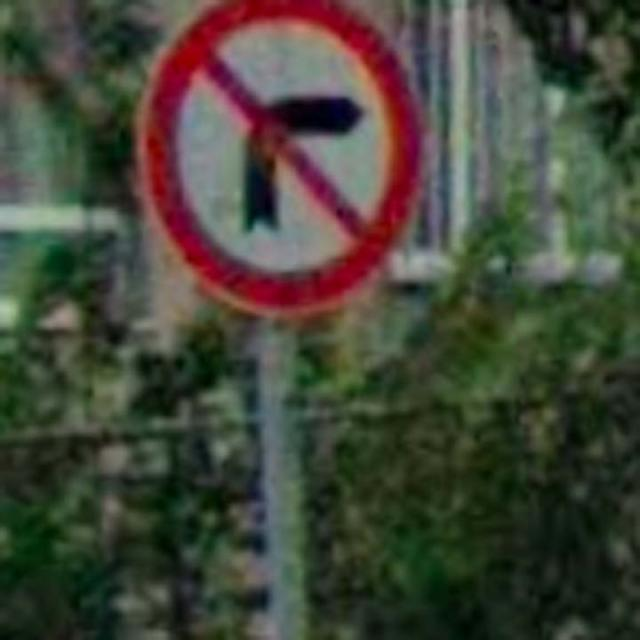sagadonulmez: (142, 1, 426, 311)
